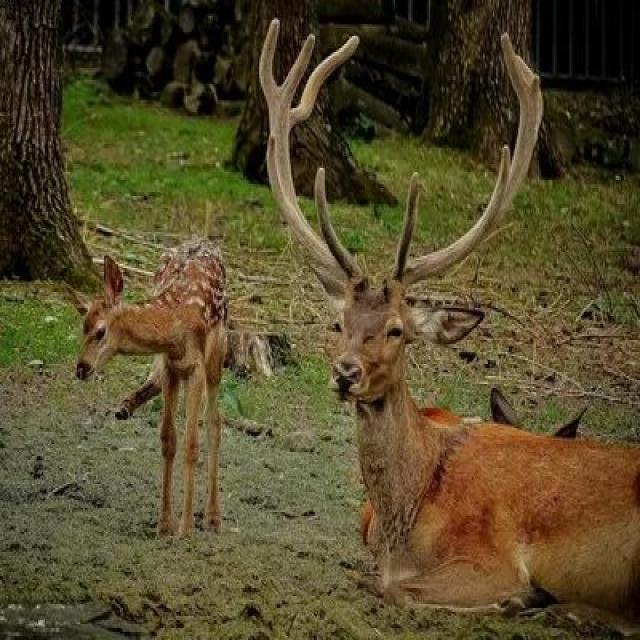deer: (212, 37, 628, 640), (46, 206, 259, 486)
